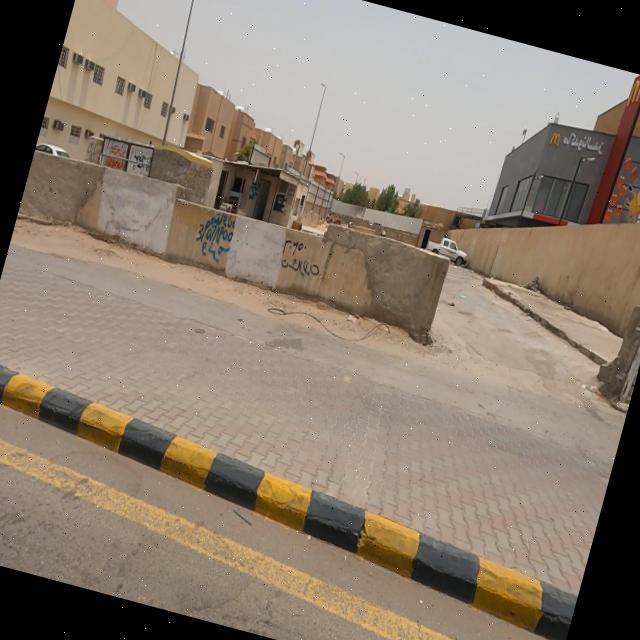Graffiti: (192, 209, 237, 265), (278, 237, 329, 282)
